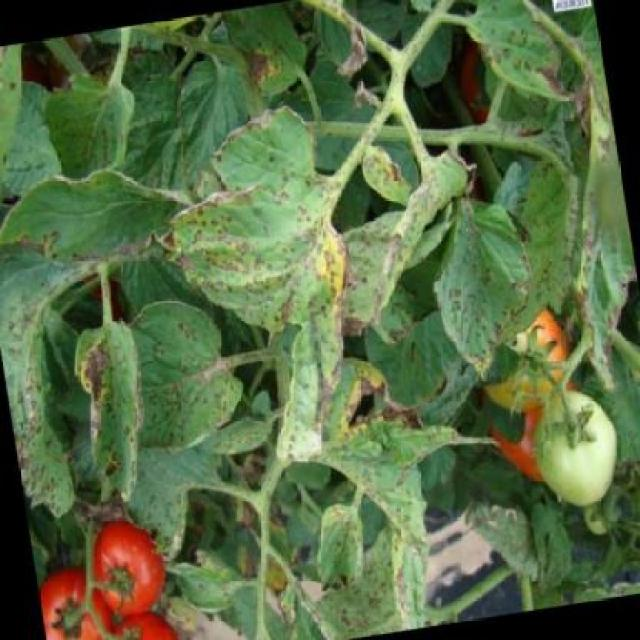Tomato leaf bacterial spot: (160, 87, 409, 464), (327, 392, 460, 632), (97, 281, 266, 466), (412, 172, 549, 398), (1, 155, 203, 289), (66, 306, 180, 518), (310, 499, 383, 601)
